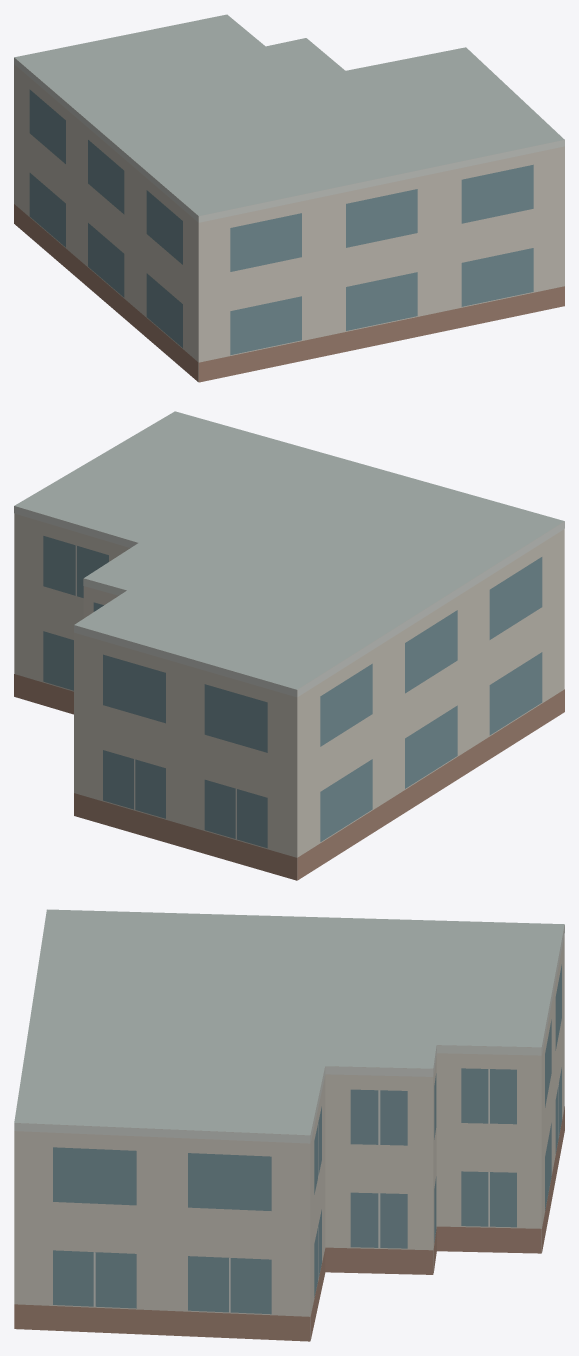
File: survey-upis-32802928.glb
3 renders of one model, top to bottom at view 1: azimuth 30°, elevation 25°; view 2: azimuth 150°, elevation 25°; view 3: azimuth 270°, elevation 25°, orthographic. The views are drawn at different scales.
Parts seen in each view (by area): view 1: survey-upis-32802928.tmp; view 2: survey-upis-32802928.tmp; view 3: survey-upis-32802928.tmp.
Boxes of the visible parts, x1,y1,x2,y2 form: survey-upis-32802928.tmp: [14, 14, 564, 382]; survey-upis-32802928.tmp: [14, 411, 564, 880]; survey-upis-32802928.tmp: [14, 909, 564, 1341].
Bounding box in the file's own units: 14.35 × 6.1 × 14.78.
